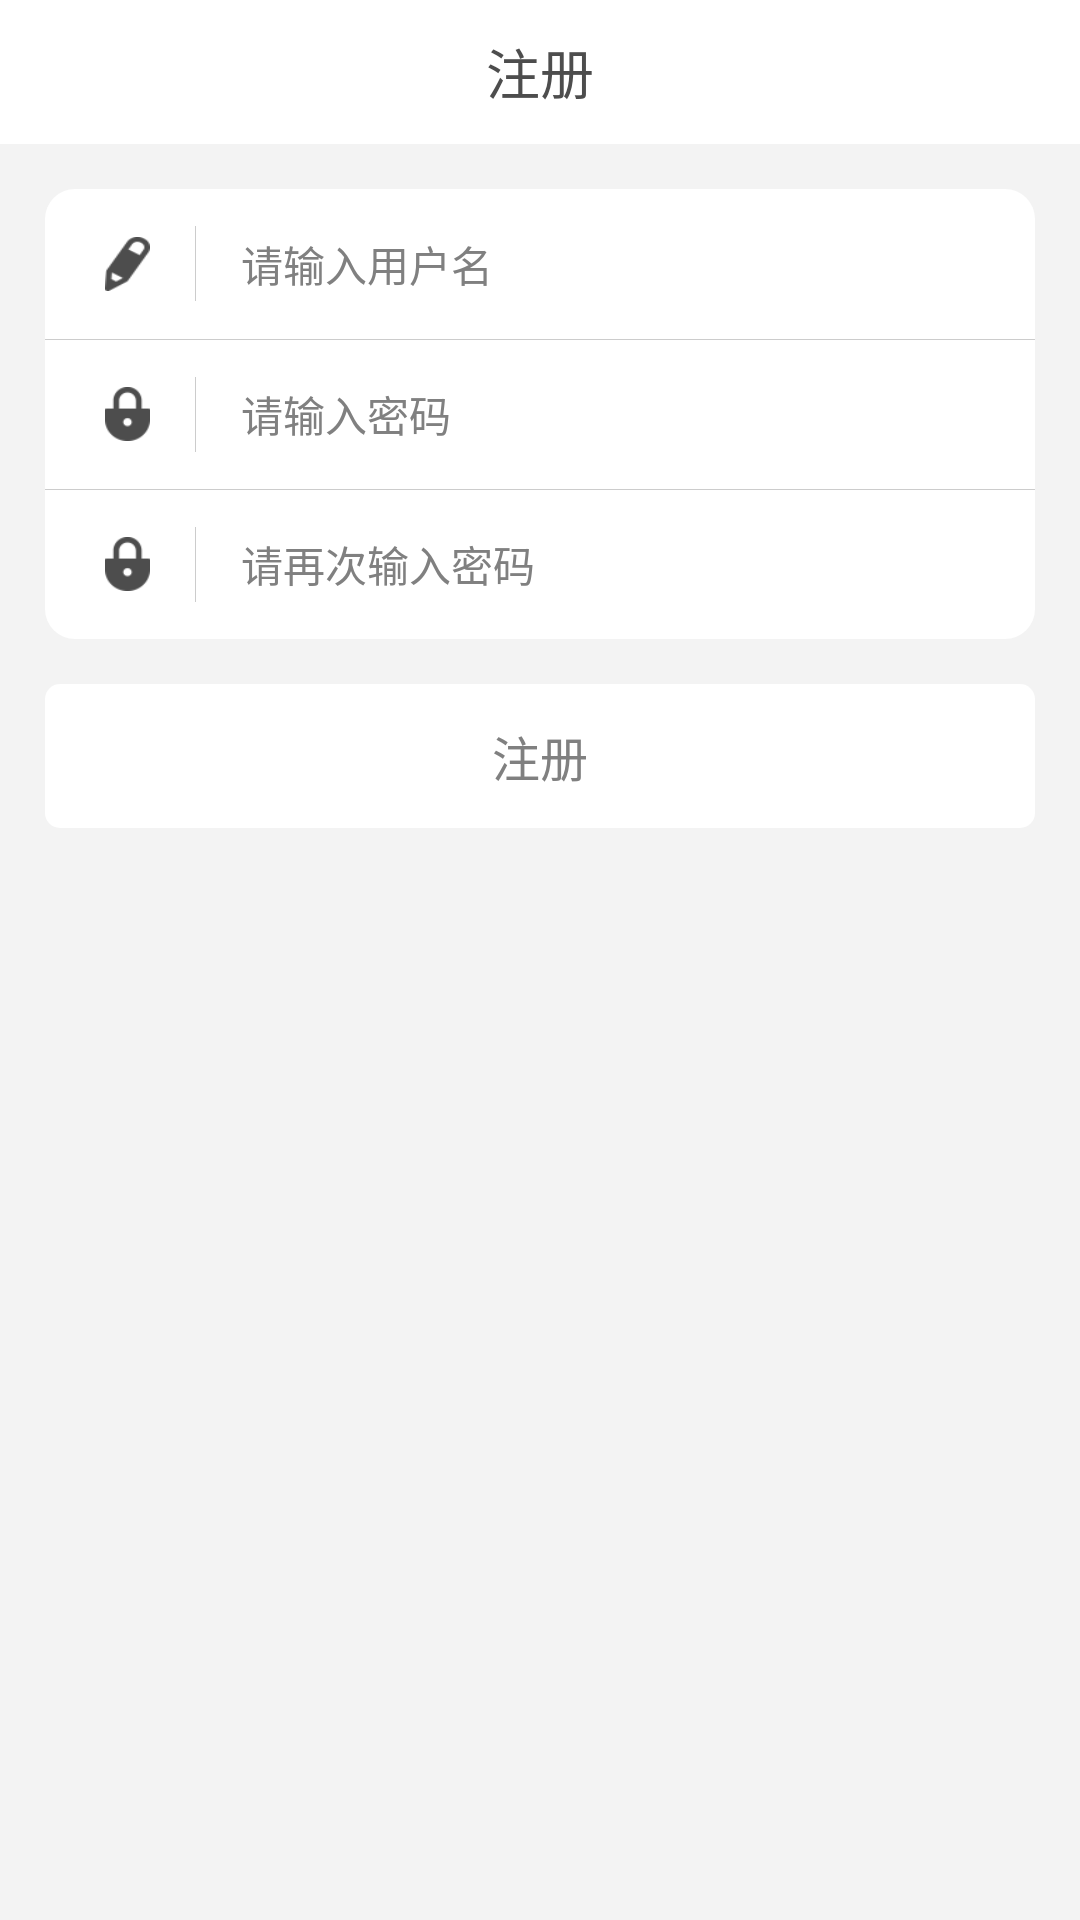

Icon click points for this 1080px×1920px phone screenshot, format [x,y]:
password: [127,414], [127,564]
